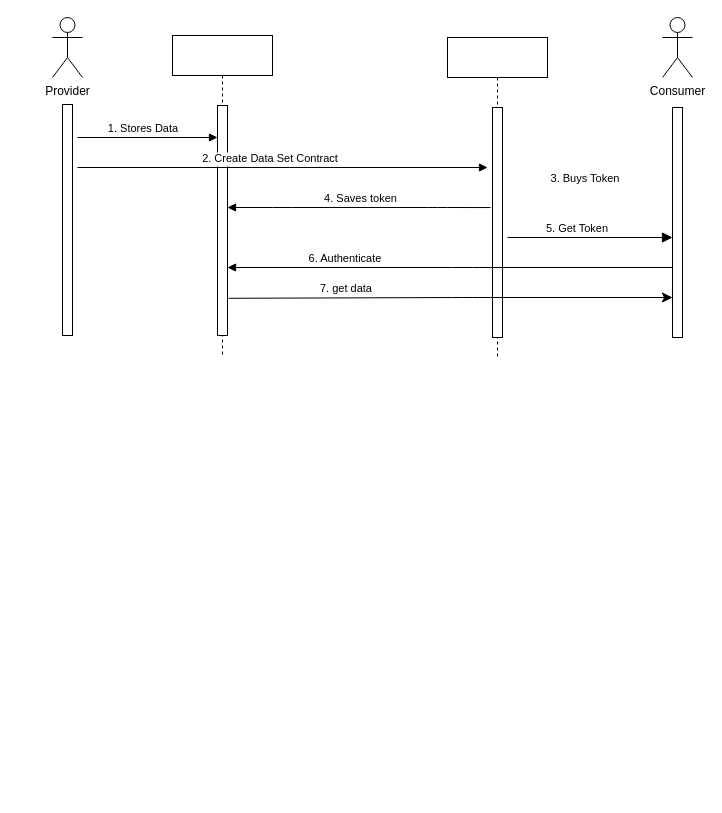
Image size: 722x813. Some labels were removed from this diagram. Each missing label, with the box of its shape:
Node: (172, 34, 272, 358)
Smart Contract: (446, 36, 548, 358)
